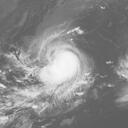cyclone: (37, 47, 84, 88)
